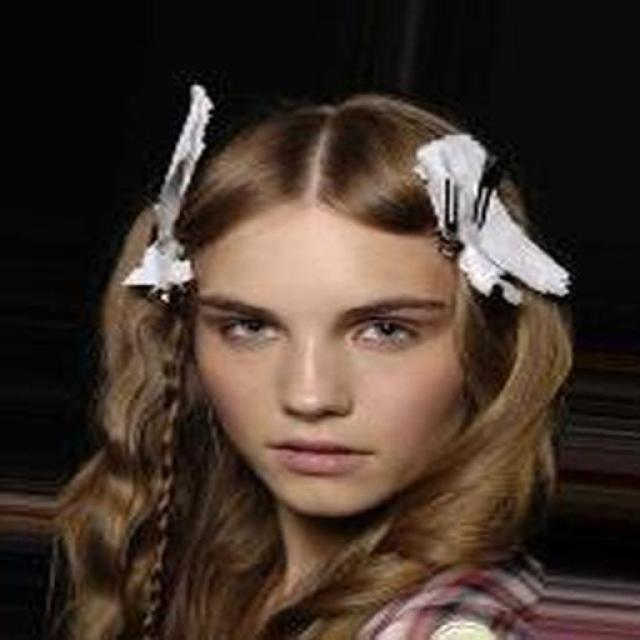bareface: (152, 135, 536, 514)
